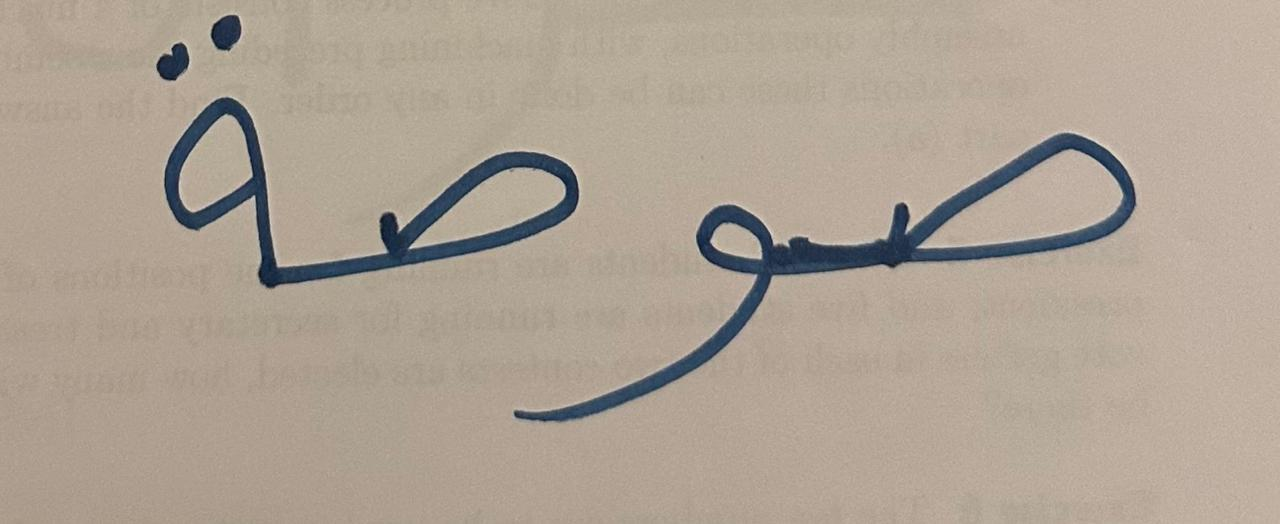seen: (823, 35, 1211, 377), (322, 48, 599, 319)
thal: (133, 6, 312, 344)
yeh: (609, 124, 814, 455)
